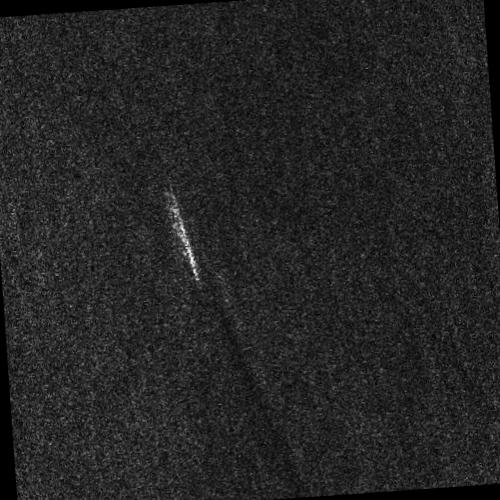ship: (172, 205, 199, 281)
